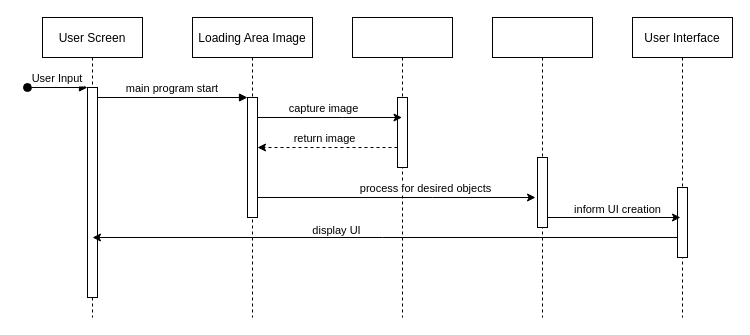
The diagram is 750 pixels wide and 335 high, and some of its shapes have lost their labels. The box of each missing label's shape, as (x1, y1, x2, y2) in pixels:
Camera: (352, 16, 452, 318)
Image Processor: (492, 16, 592, 318)
